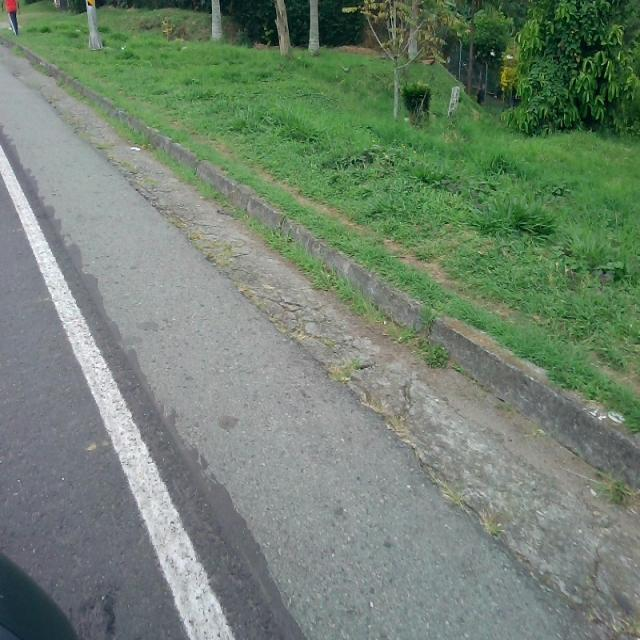DITCH: (1, 35, 638, 638)
